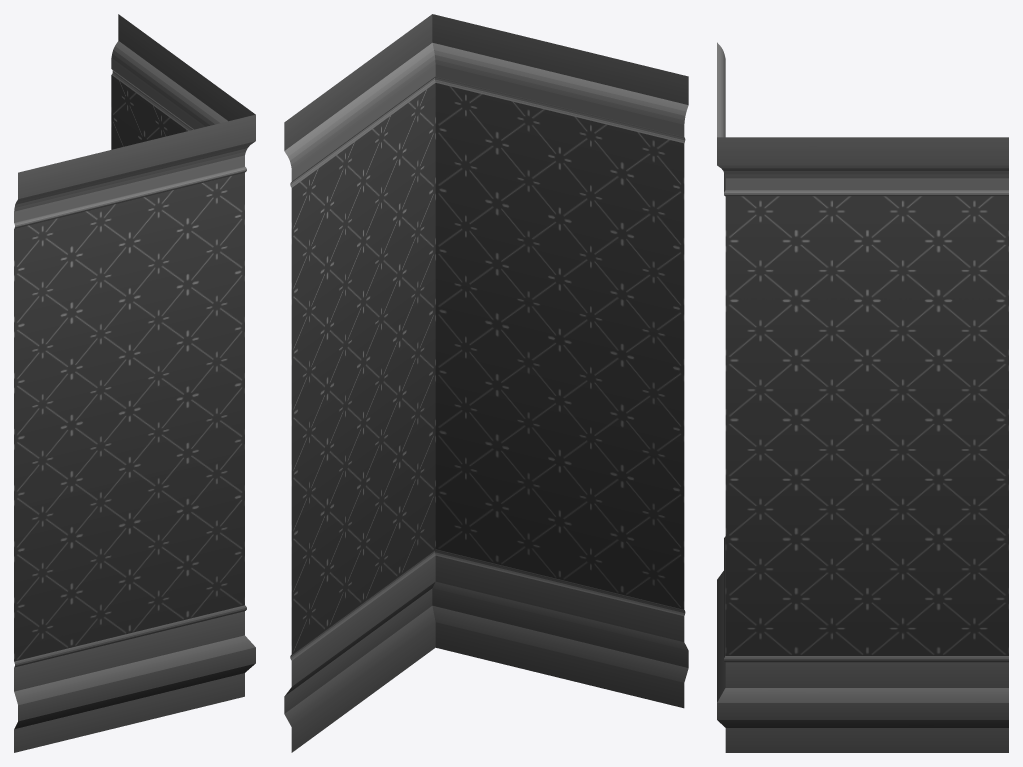
File: Wall_02_Ext_Light 1.fbx
3 views of the same model, side by side, from view 1: azimuth 30°, elevation 25°; view 2: azimuth 150°, elevation 25°; view 3: azimuth 270°, elevation 25° (orthographic). The views are drawn at different scales.
Parts seen in each view (by area): view 1: Wall_02_Ext_Light; view 2: Wall_02_Ext_Light; view 3: Wall_02_Ext_Light.
Part boxes in pixels (<box>): Wall_02_Ext_Light: <box>14,14,255,752</box>; Wall_02_Ext_Light: <box>284,14,688,752</box>; Wall_02_Ext_Light: <box>717,42,1008,752</box>.
Size of the model in its own units: 1.13 by 2.65 by 1.13.
